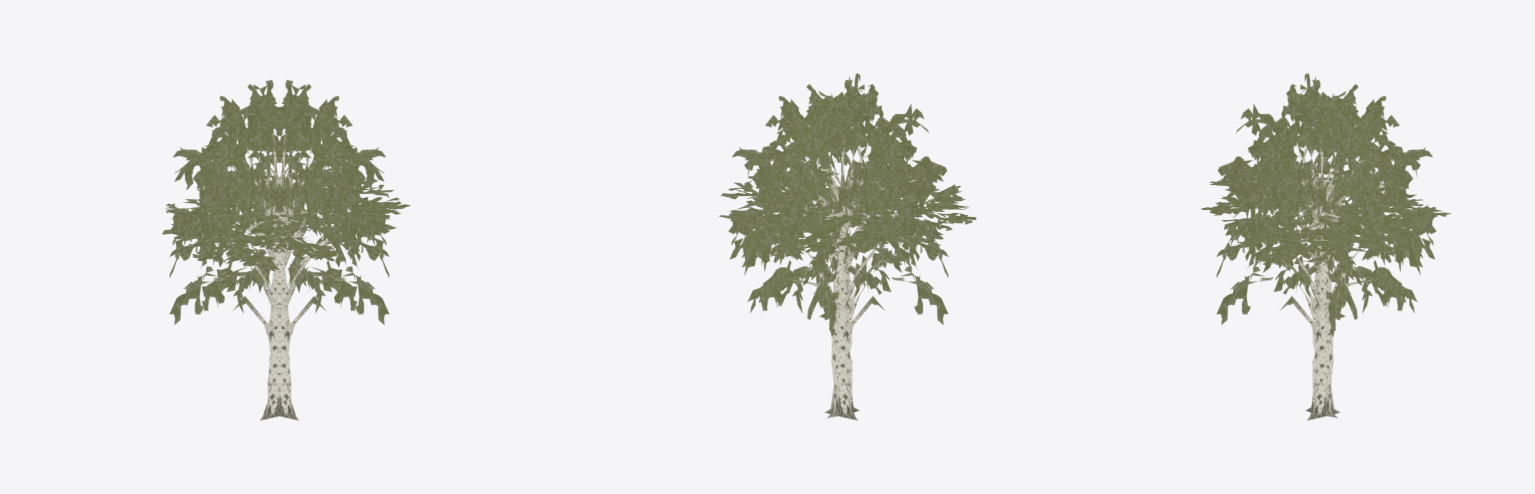
Rendered from birch-cards.glb.
The picture shows the model from 3 angles, left to right: view 1: azimuth 30°, elevation 25°; view 2: azimuth 150°, elevation 25°; view 3: azimuth 270°, elevation 25°; orthographic projection.
Parts seen in each view (by area): view 1: cards; view 2: cards; view 3: cards.
Boxes of the visible parts, x1,y1,x2,y2 form: cards: (162, 80, 410, 420); cards: (719, 73, 976, 420); cards: (1201, 73, 1451, 420).
Size of the model in its own units: 11.44 by 11.44 by 11.44.
1 material, 1 textured.
